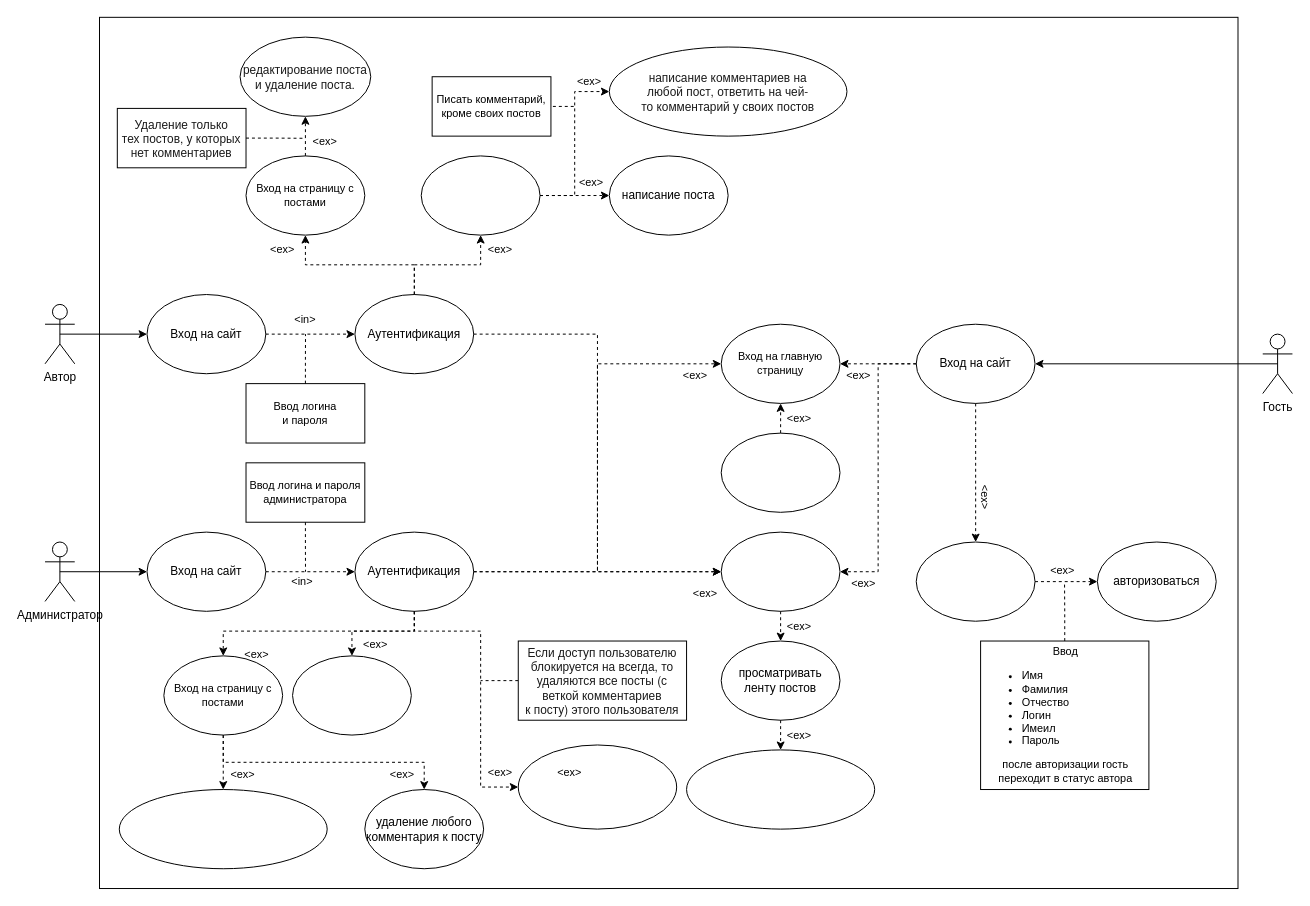
Some shapes in this 1310 by 906 pixel diagram are drawn without their labels. The shapes that lost their labels are listed below. From the top down, each one's box as (x1, y1, x2, y2) in pixels, then its label:
(420, 155, 540, 235): Вход на страницу создания (редактирования) поста
(720, 432, 840, 512): Вход на страницу "О нас"
(720, 531, 840, 611): Вход на страницу просмотра поста
(915, 541, 1035, 621): регистрироваться в системе
(292, 655, 411, 735): просмотр списка пользователей в системе
(517, 744, 677, 829): блокировка входа пользователя в систему на определенное время либо на всегда
(686, 749, 875, 829): открывать страницу поста с детальной информацией по посту
(118, 789, 327, 869): удаление любого поста. Если у поста были комментарии, то они так же удаляются
